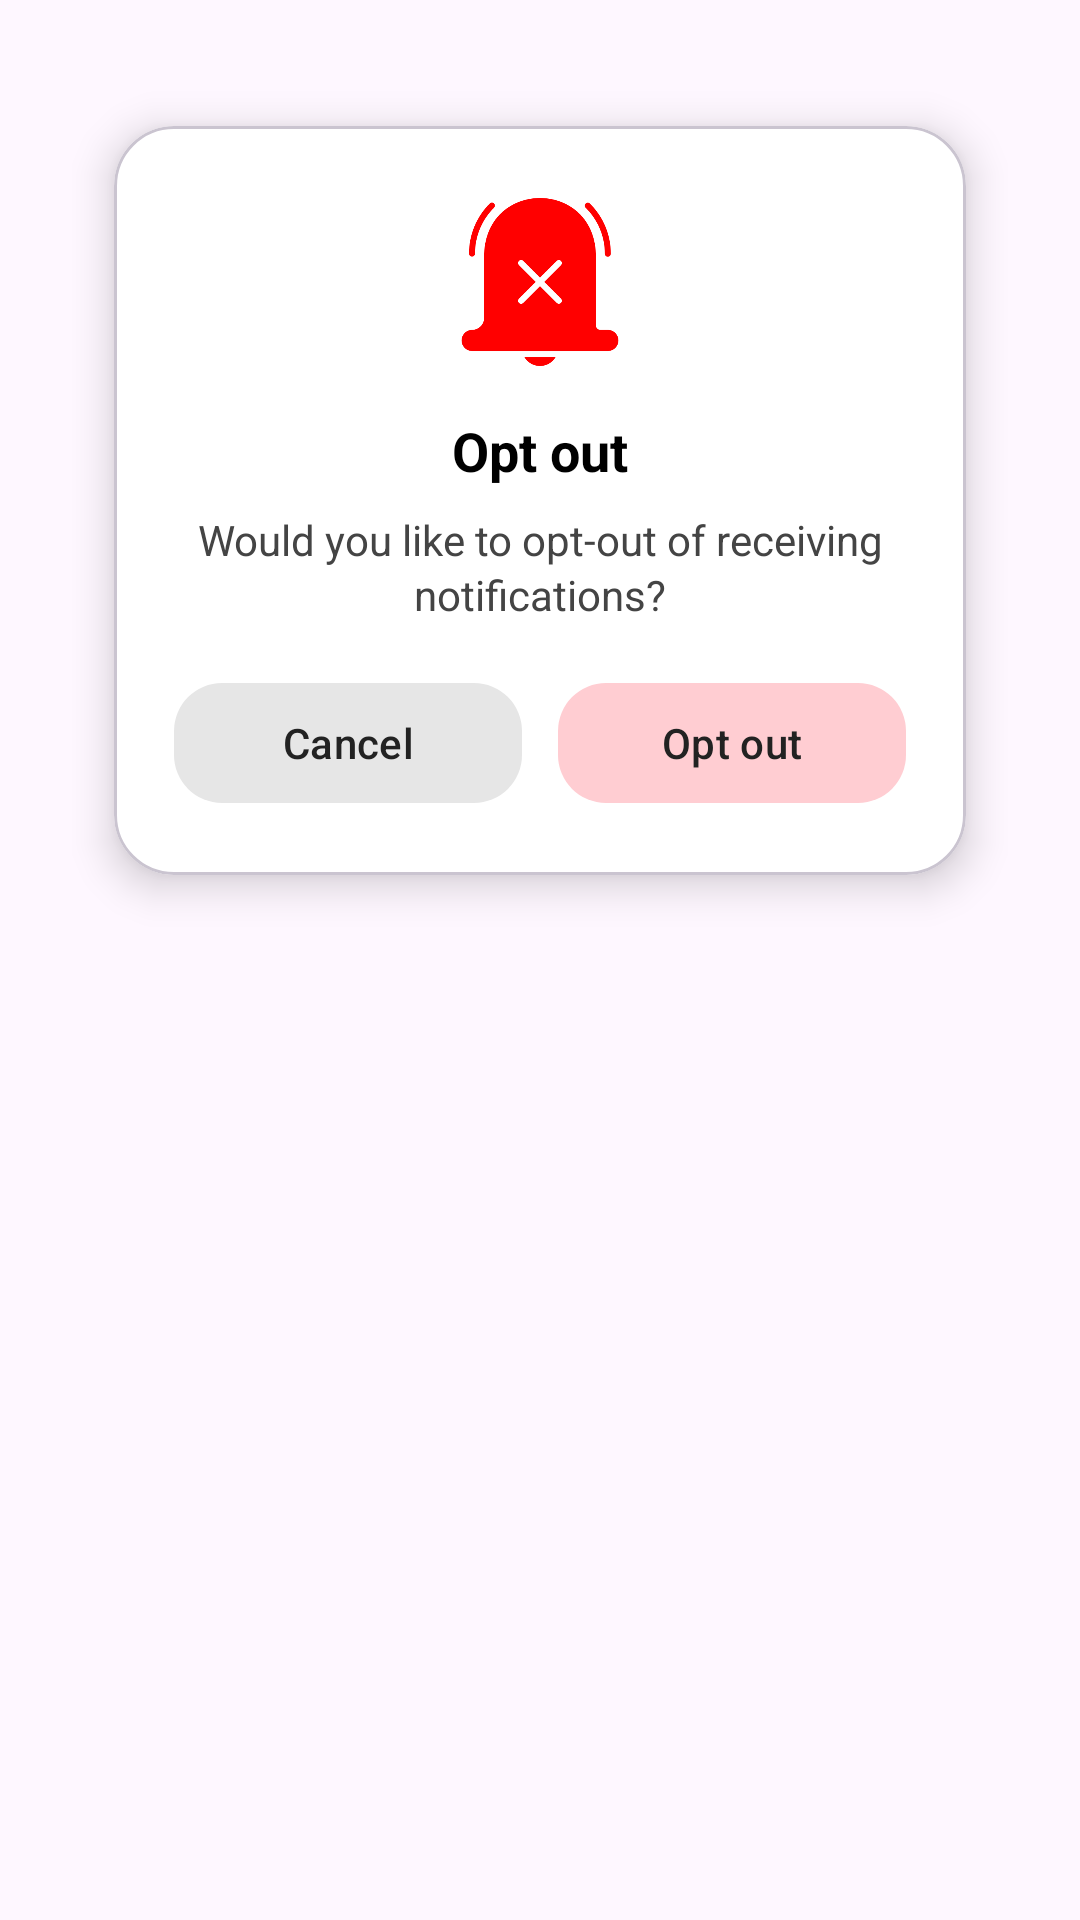

Icons on this 1080px x 1920px Android screen, each with its box as {"x1": x1, "y1": y1, "x2": x2, "y2": y2}:
Warning icon: {"x1": 461, "y1": 198, "x2": 619, "y2": 366}
